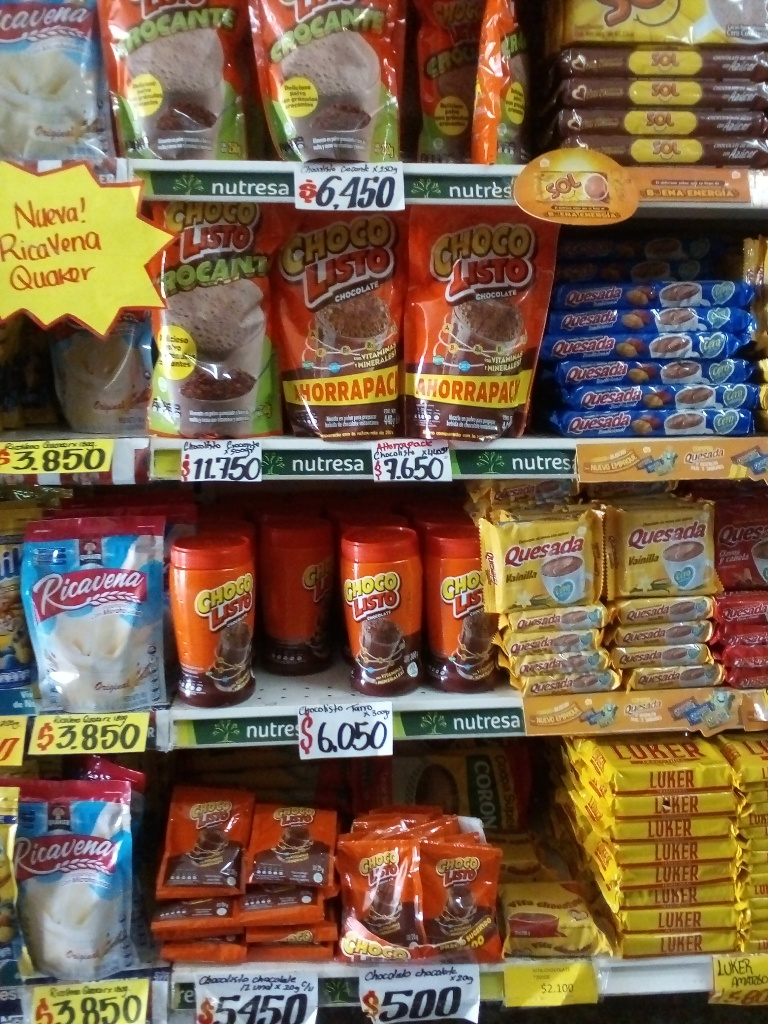COL0170102DYP50000: (148, 195, 302, 436)
COL0170103DYP44000: (287, 210, 423, 431)
COL0170103SOB02000: (335, 833, 419, 943)
COL0170103TRR30000: (173, 540, 261, 703)
